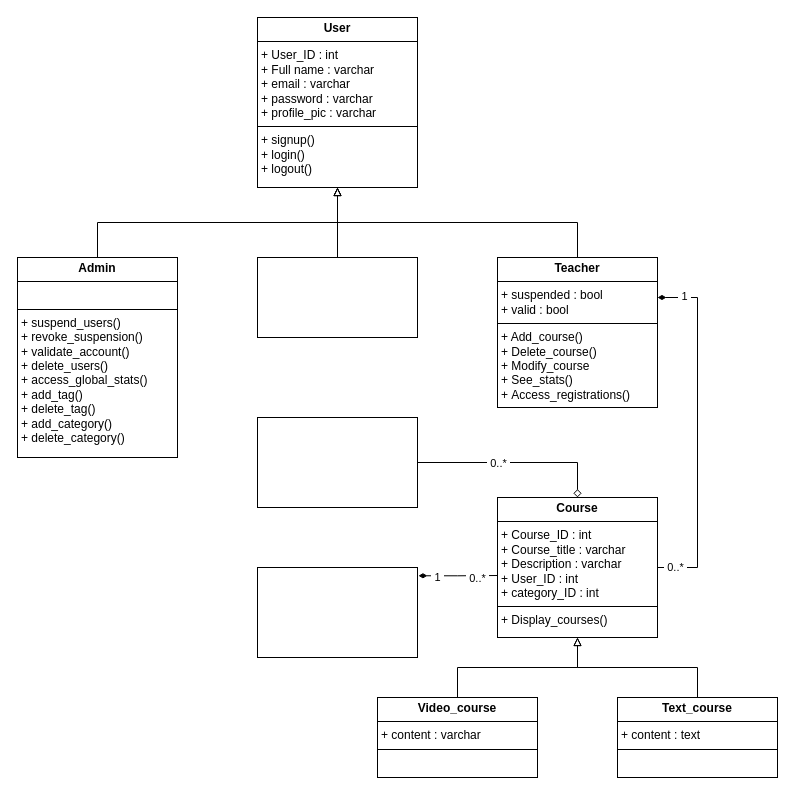
This 795x795 diagram has some shape labels left out. The shapes that lost their labels are listed below. From the top down, each one's centre as x and y in pixels, then its label:
At [337,297]: "Student + Suspended : bool + Folow_course()".
At [337,462]: "Tag + tag_ID : int + tag_title : varchar".
At [337,612]: "category + category_ID : int + category_title : varchar".
